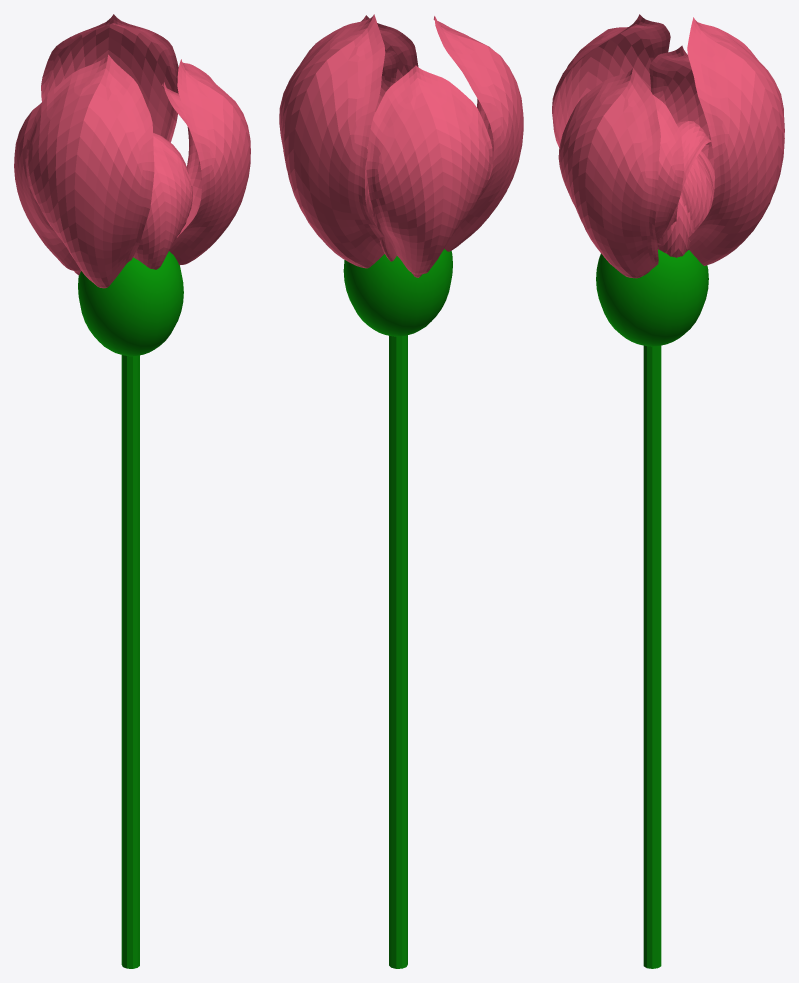
Rendered from Lotus015.fbx.
3 renders of one model, left to right at view 1: azimuth 30°, elevation 25°; view 2: azimuth 150°, elevation 25°; view 3: azimuth 270°, elevation 25°, orthographic. The views are drawn at different scales.
Parts seen in each view (by area): view 1: nurbsToPoly11, pCylinder1, nurbsToPoly24, pSphere4, nurbsToPoly10, nurbsToPoly8, nurbsToPoly12, nurbsToPoly9; view 2: nurbsToPoly10, nurbsToPoly12, pCylinder1, nurbsToPoly11, pSphere4, nurbsToPoly24, nurbsToPoly9; view 3: nurbsToPoly24, nurbsToPoly10, pCylinder1, pSphere4, nurbsToPoly11, nurbsToPoly12, nurbsToPoly9, nurbsToPoly17, nurbsToPoly15, nurbsToPoly22.
Part boxes in pixels (box(x1,y1,x2,y2)): nurbsToPoly11: box(25, 54, 154, 288); pCylinder1: box(121, 355, 139, 968); nurbsToPoly24: box(169, 59, 250, 265); pSphere4: box(78, 251, 183, 356); nurbsToPoly10: box(41, 14, 178, 142); nurbsToPoly8: box(133, 139, 192, 269); nurbsToPoly12: box(14, 102, 80, 275); nurbsToPoly9: box(162, 82, 201, 237); nurbsToPoly10: box(279, 14, 385, 268); nurbsToPoly12: box(366, 65, 492, 277); pCylinder1: box(389, 335, 407, 968); nurbsToPoly11: box(433, 16, 523, 251); pSphere4: box(343, 249, 452, 336); nurbsToPoly24: box(361, 15, 418, 82); nurbsToPoly9: box(376, 49, 399, 108); nurbsToPoly24: box(558, 68, 660, 278); nurbsToPoly10: box(687, 17, 784, 265); pCylinder1: box(643, 345, 661, 968); pSphere4: box(596, 249, 708, 346); nurbsToPoly11: box(552, 14, 670, 147); nurbsToPoly12: box(649, 45, 714, 169); nurbsToPoly9: box(653, 95, 683, 242); nurbsToPoly17: box(681, 154, 713, 230); nurbsToPoly15: box(658, 195, 694, 257); nurbsToPoly22: box(660, 120, 711, 238).
Size of the model in its own units: 12.92 by 55.7 by 12.38.
